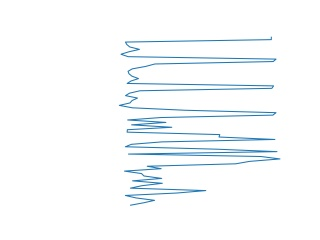crevasseRiverChannelBar: (121, 159, 281, 206)
majorRiverBedLagDeposit: (122, 123, 285, 162)
majorRiverChannelBar: (116, 35, 278, 119)
